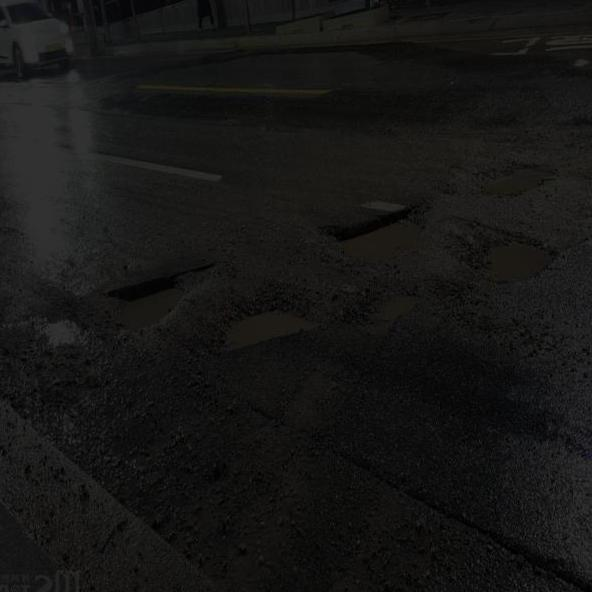pothole: (66, 248, 196, 356), (211, 286, 327, 368), (333, 185, 422, 269), (468, 228, 564, 288), (471, 140, 554, 205), (363, 279, 427, 349)
